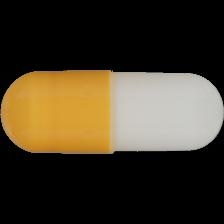42254-160: (0, 0, 224, 224)
